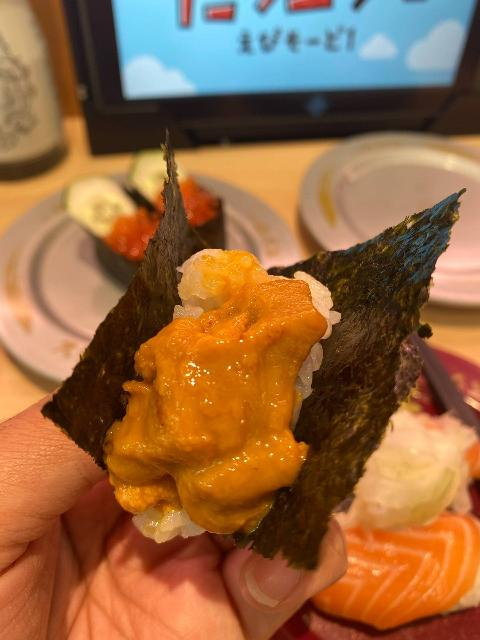janred: (303, 347, 480, 640)
janwhite: (8, 166, 288, 401), (302, 141, 480, 306)
